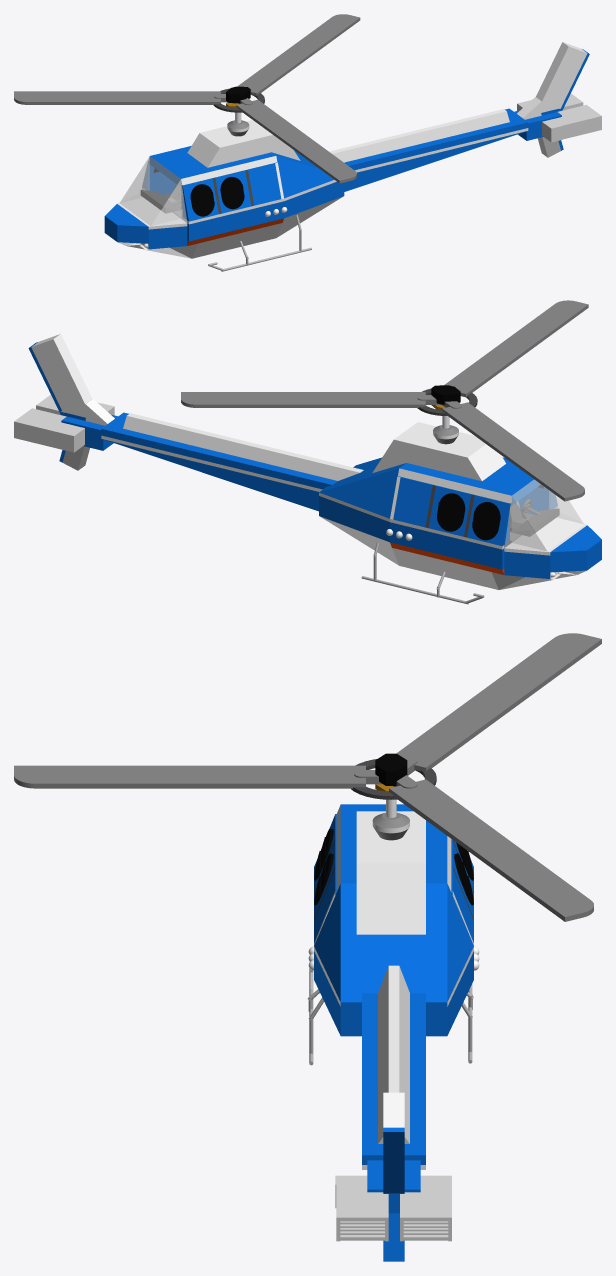
Rendered from 蓝色直升机.gltf.
3 renders of one model, top to bottom at view 1: azimuth 30°, elevation 25°; view 2: azimuth 150°, elevation 25°; view 3: azimuth 270°, elevation 25°, orthographic. The views are drawn at different scales.
Visible parts, largest first — view 1: box (×19), wedge (×16), cornerPyramid3 (×4); view 2: box (×21), wedge (×18), cornerPyramid3 (×4); view 3: box (×15), wedge (×6), cornerPyramid3 (×2).
Part boxes in pixels (box(x1,y1,x2,y2)): box (×19): box(14, 15, 601, 249); wedge (×16): box(117, 97, 541, 258); cornerPyramid3 (×4): box(120, 156, 343, 237); box (×21): box(14, 301, 601, 578); wedge (×18): box(85, 399, 586, 589); cornerPyramid3 (×4): box(319, 468, 583, 565); box (×15): box(14, 634, 601, 1221); wedge (×6): box(314, 863, 473, 1143); cornerPyramid3 (×2): box(314, 884, 473, 1001).
Size of the model in its own units: 19.07 by 5.41 by 11.02.
